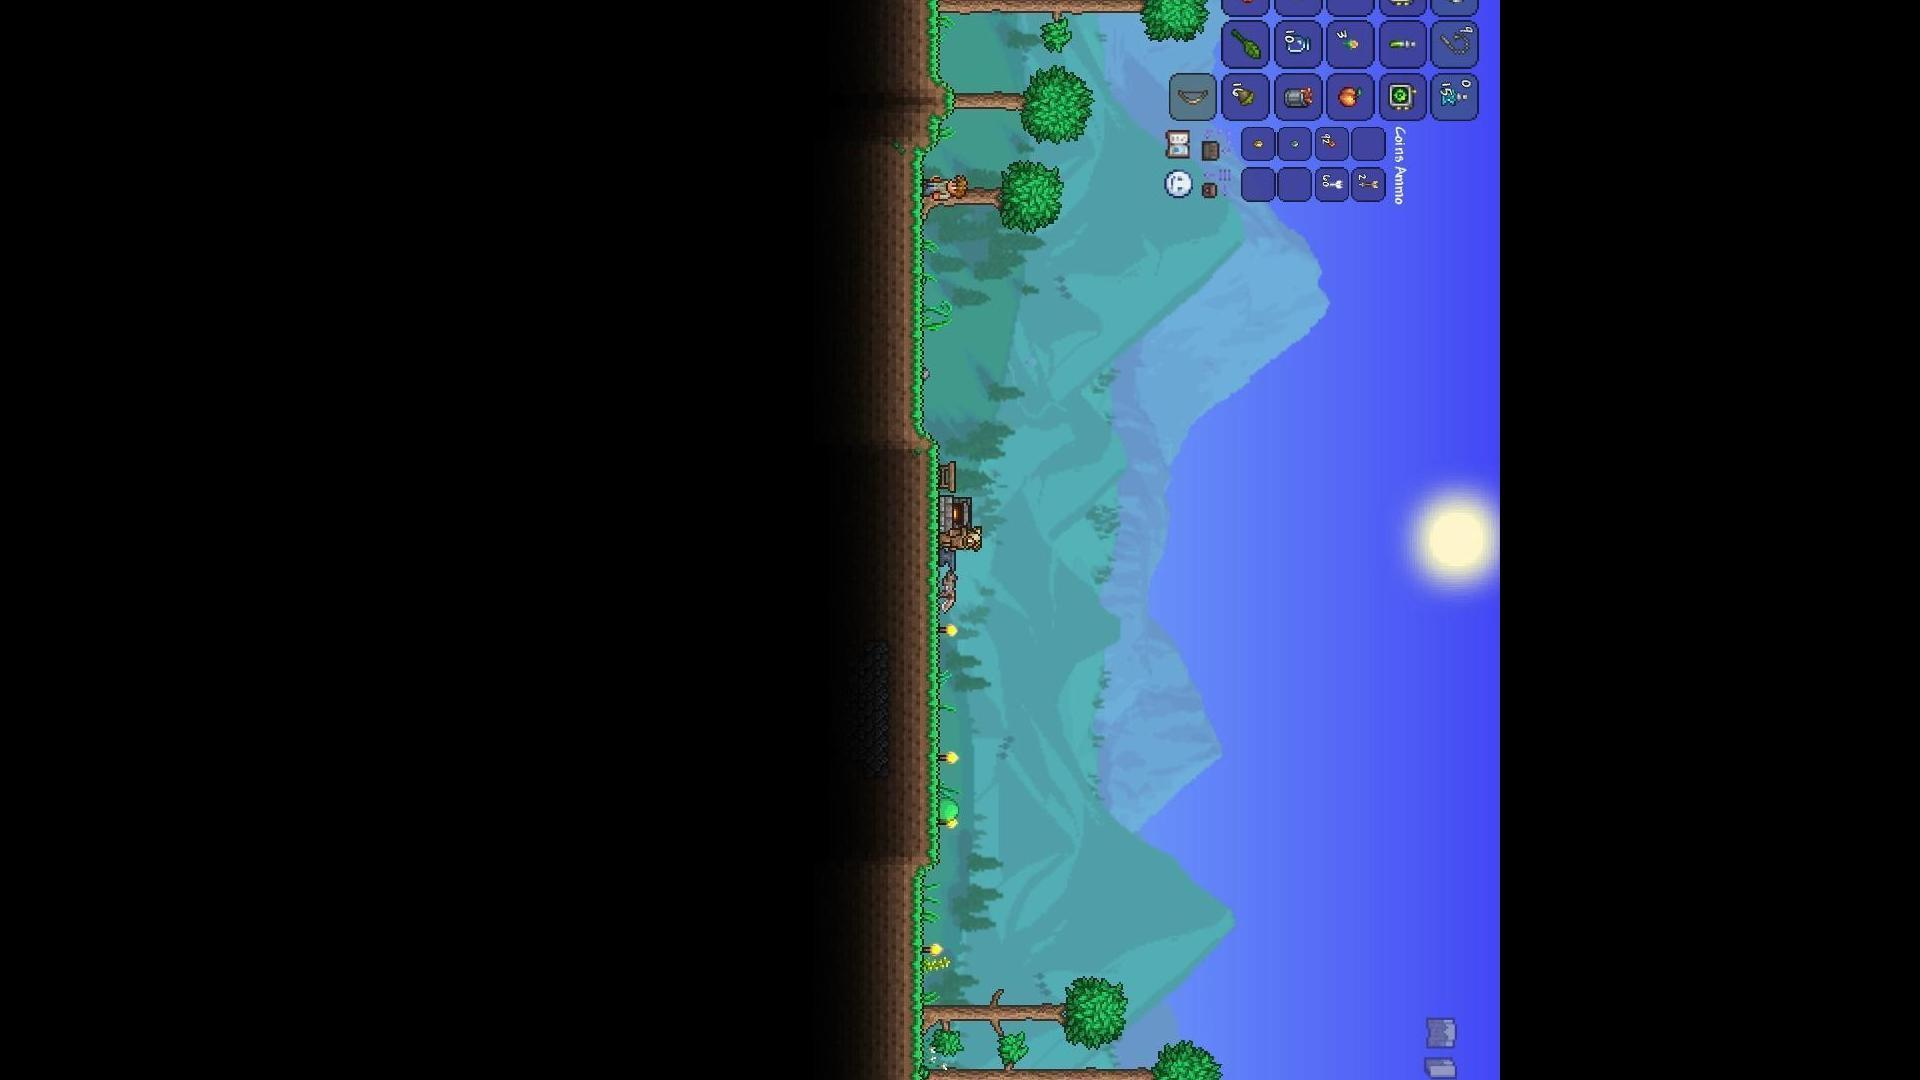anvil: (932, 547, 963, 576)
furnace: (938, 492, 977, 537)
slime: (934, 798, 960, 823)
